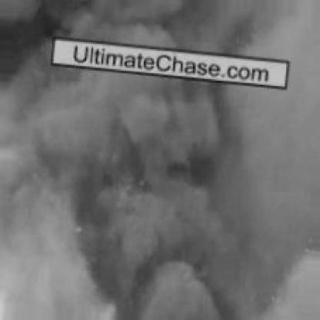Fire: (0, 217, 46, 316)
Smoke: (42, 67, 306, 310)
